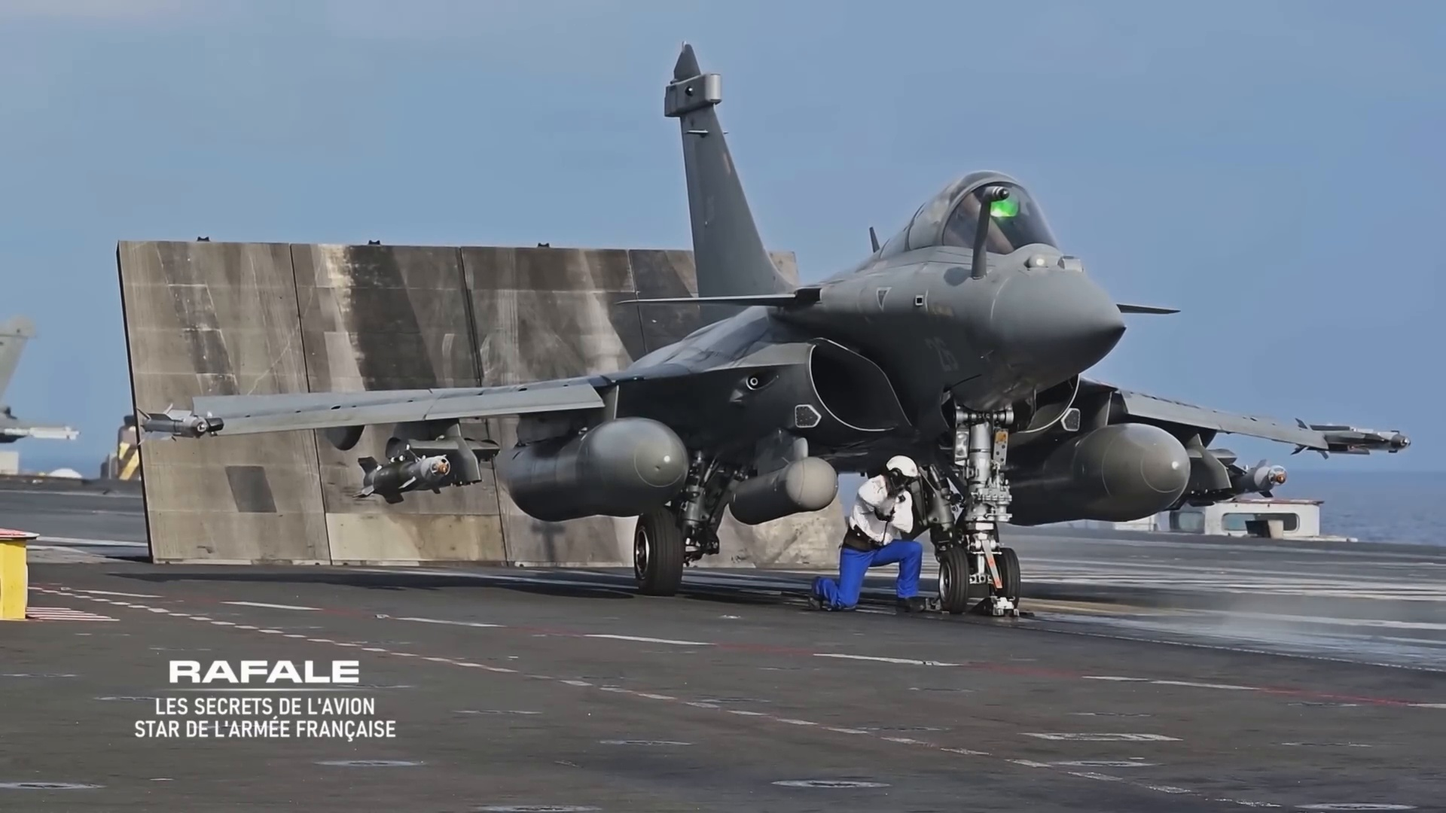Rafale: (137, 40, 1414, 620)
